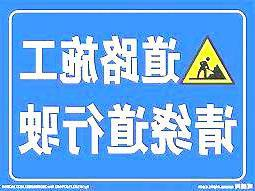sign: (6, 6, 248, 184)
